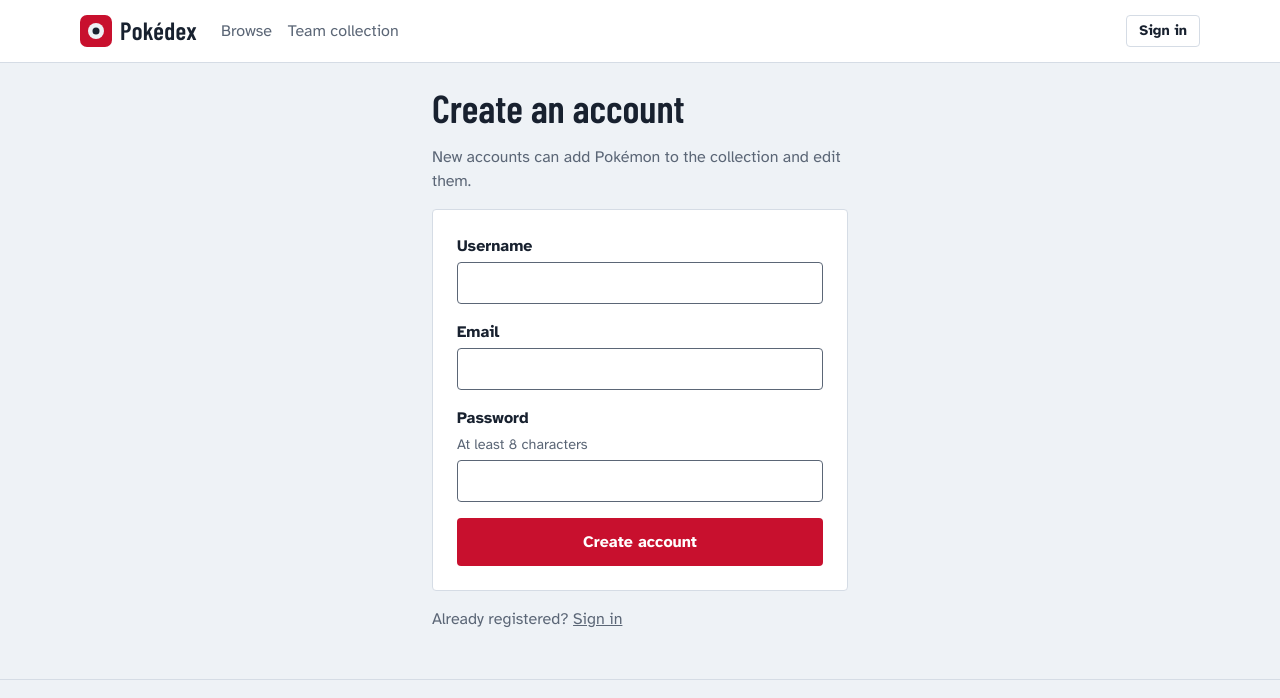
Test: Registering › applies the same rules as the server before sending
The width and height of the screenshot is (1280, 698).
Step 1. Type "a b" into the field labelled "Username" → (640, 284), box [457,262,823,304]
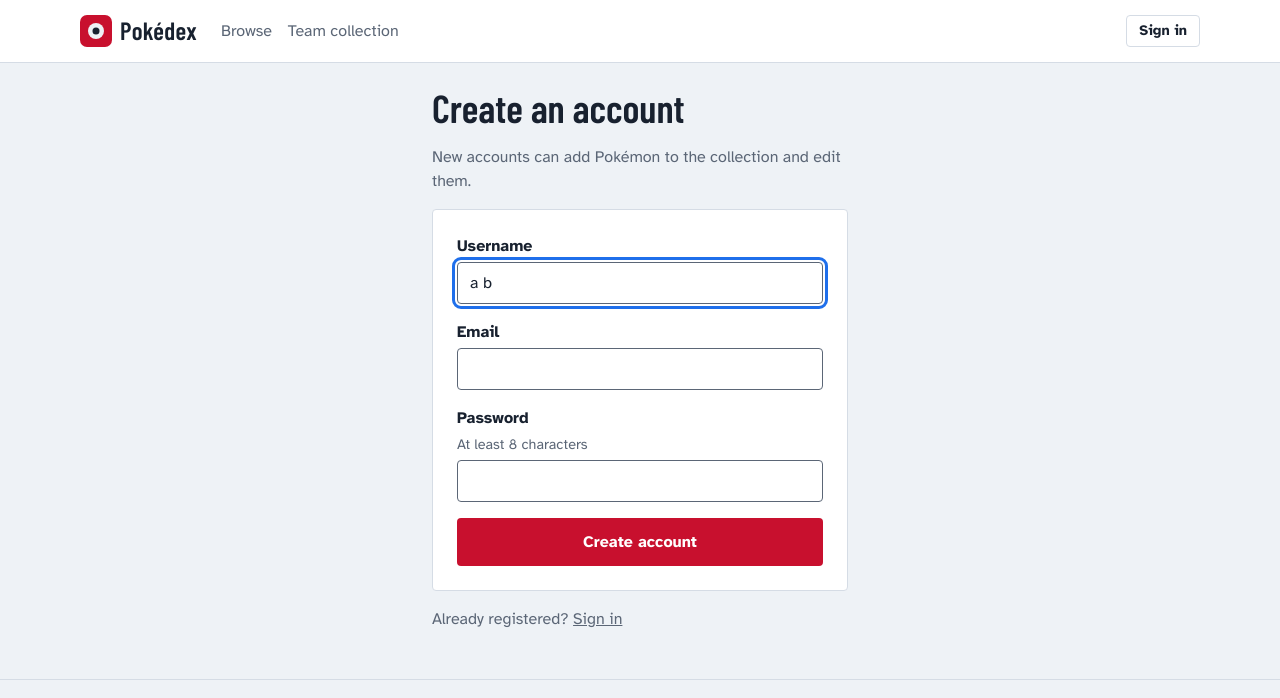
Step 2. Type "not-an-email" into the field labelled "Email" → (640, 370), box [457,348,823,390]
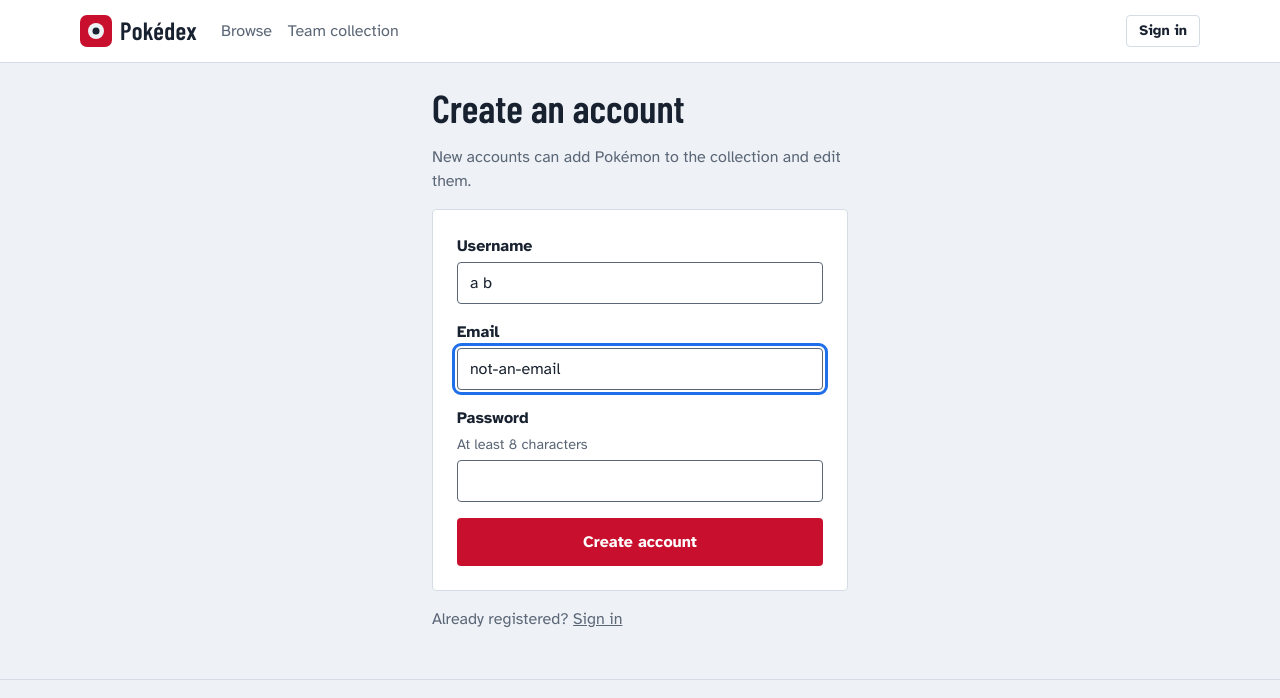
Step 3. Type "short" into the password field labelled "Password" → (640, 481), box [457,460,823,502]
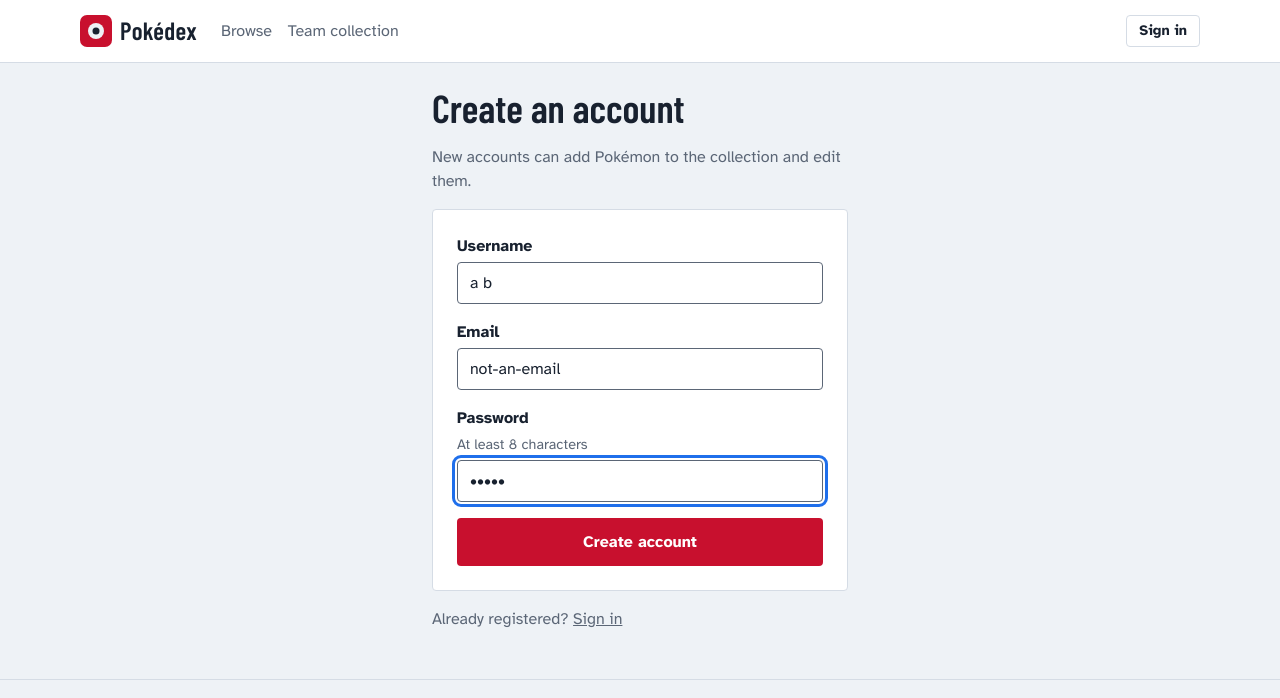
Step 4. Click the button "Create account" → click(640, 542), box [457,518,823,566]
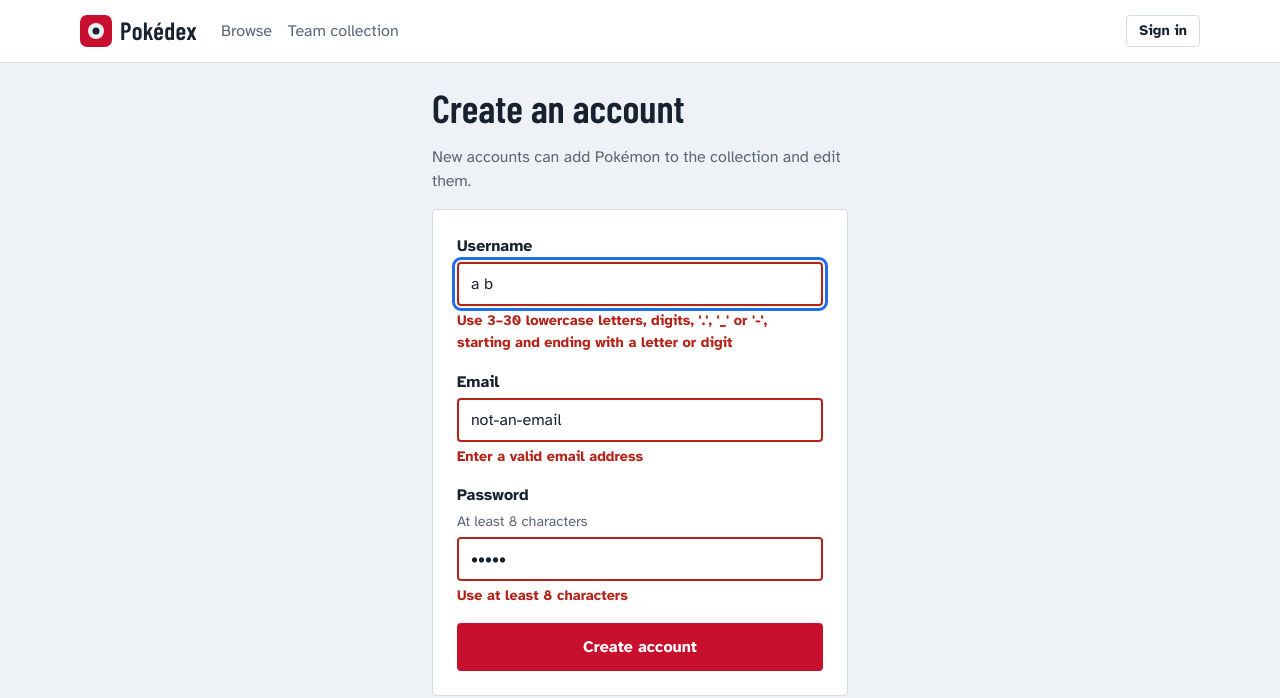
Now the text "3–30 lowercase letters, digits" is shown, box [457,312,767,351]
Now the text "Enter a valid email address" is shown, box [457,447,643,465]
Now the text "Use at least 8 characters" is shown, box [457,586,628,604]
